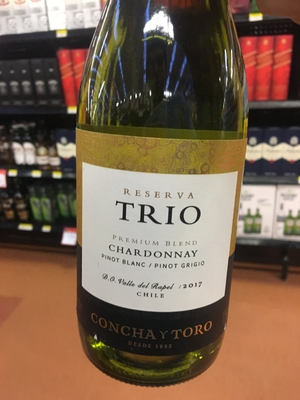trio chardonnay: (59, 31, 253, 386)
